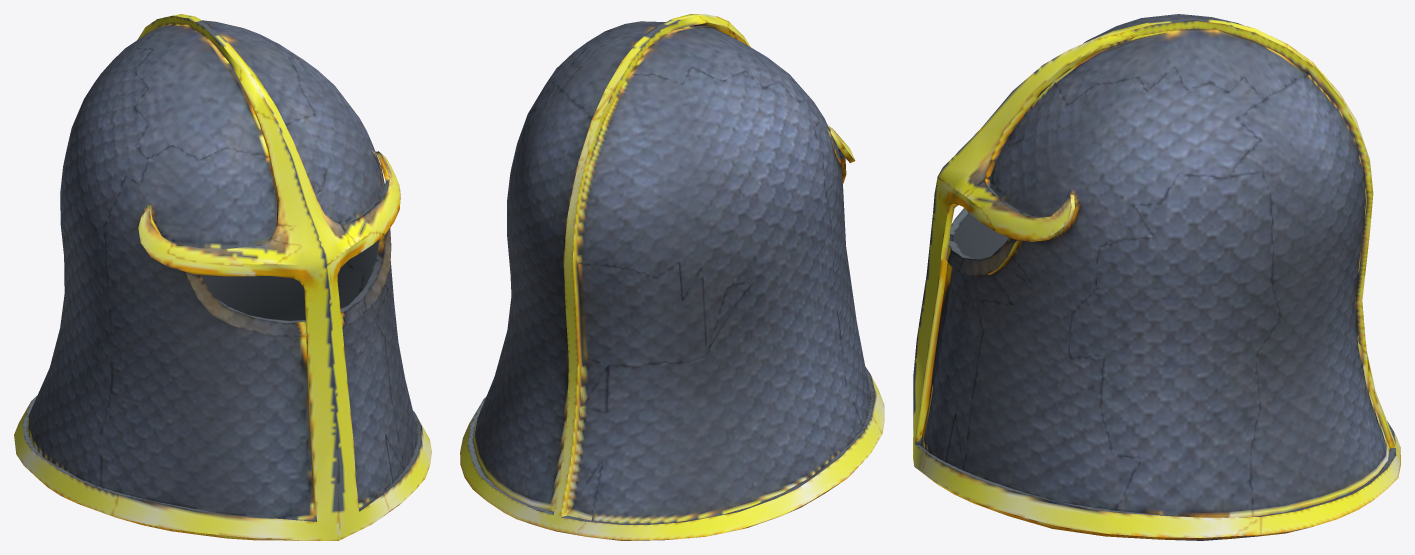
File: item_mm9_10123.glb
The picture shows the model from 3 angles, left to right: view 1: azimuth 30°, elevation 25°; view 2: azimuth 150°, elevation 25°; view 3: azimuth 270°, elevation 25°; orthographic projection. The views are drawn at different scales.
Parts seen in each view (by area): view 1: d10123; view 2: d10123; view 3: d10123.
Part boxes in pixels (left/top/right/bottom): d10123: left=14, top=14, right=431, bottom=540; d10123: left=460, top=14, right=884, bottom=540; d10123: left=913, top=14, right=1400, bottom=540.
Bounding box in the file's own units: 0.8578 × 1 × 1.
1 material, 1 textured.
